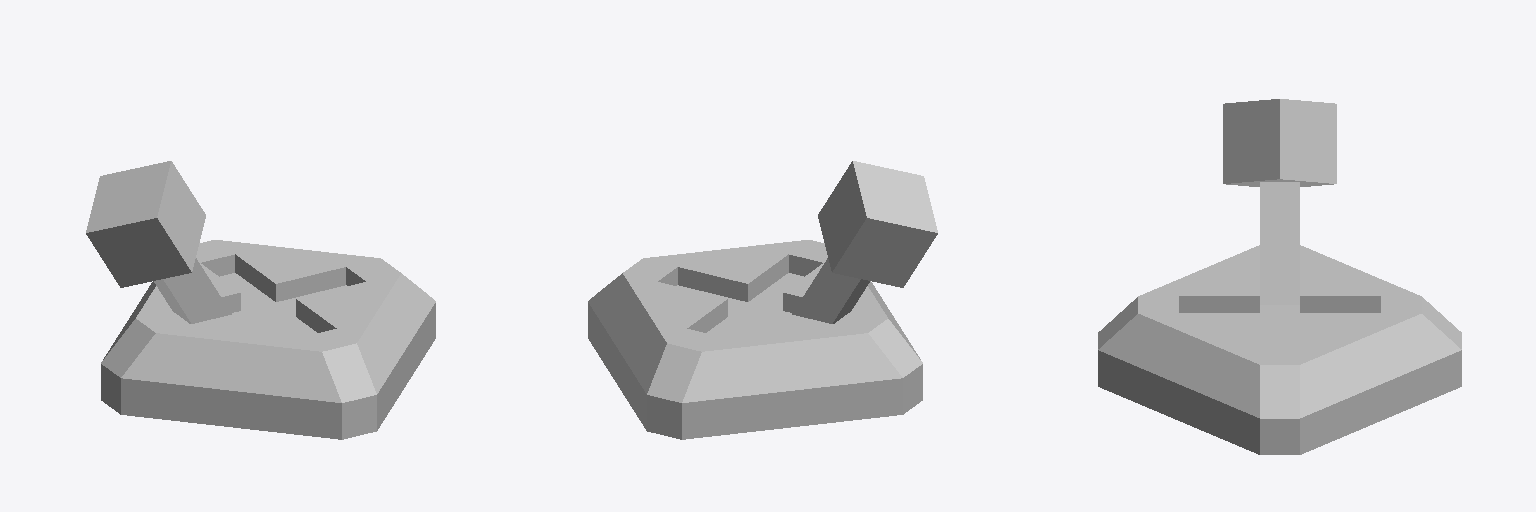
The model's file is lever_5state_2.obj.
The picture shows the model from 3 angles: view 1: azimuth 30°, elevation 25°; view 2: azimuth 150°, elevation 25°; view 3: azimuth 270°, elevation 25°; orthographic projection.
Parts seen in each view (by area): view 1: 5-STATE_Circle.004, LEVER_Cube.049; view 2: 5-STATE_Circle.004, LEVER_Cube.049; view 3: 5-STATE_Circle.004, LEVER_Cube.049.
Part boxes in pixels (x1,y1,x2,y2): 5-STATE_Circle.004: (101, 240, 435, 439); LEVER_Cube.049: (86, 161, 231, 323); 5-STATE_Circle.004: (588, 240, 922, 439); LEVER_Cube.049: (792, 161, 937, 323); 5-STATE_Circle.004: (1098, 245, 1461, 454); LEVER_Cube.049: (1223, 99, 1336, 304).
Size of the model in its own units: 0.6083 by 0.396 by 0.5635.